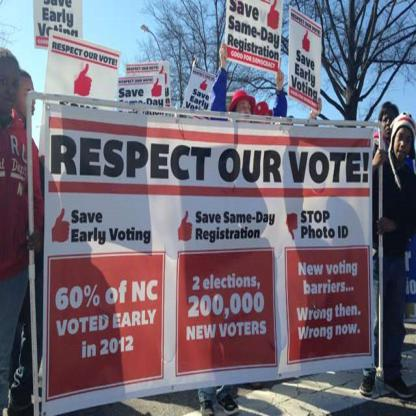face: (2, 58, 20, 116), (20, 75, 36, 120), (395, 125, 413, 160), (383, 110, 397, 138), (238, 102, 252, 130)
